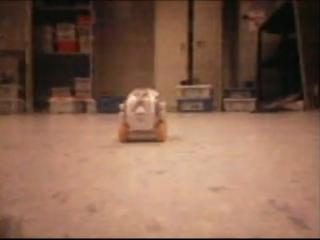cozmo: (116, 87, 167, 143)
